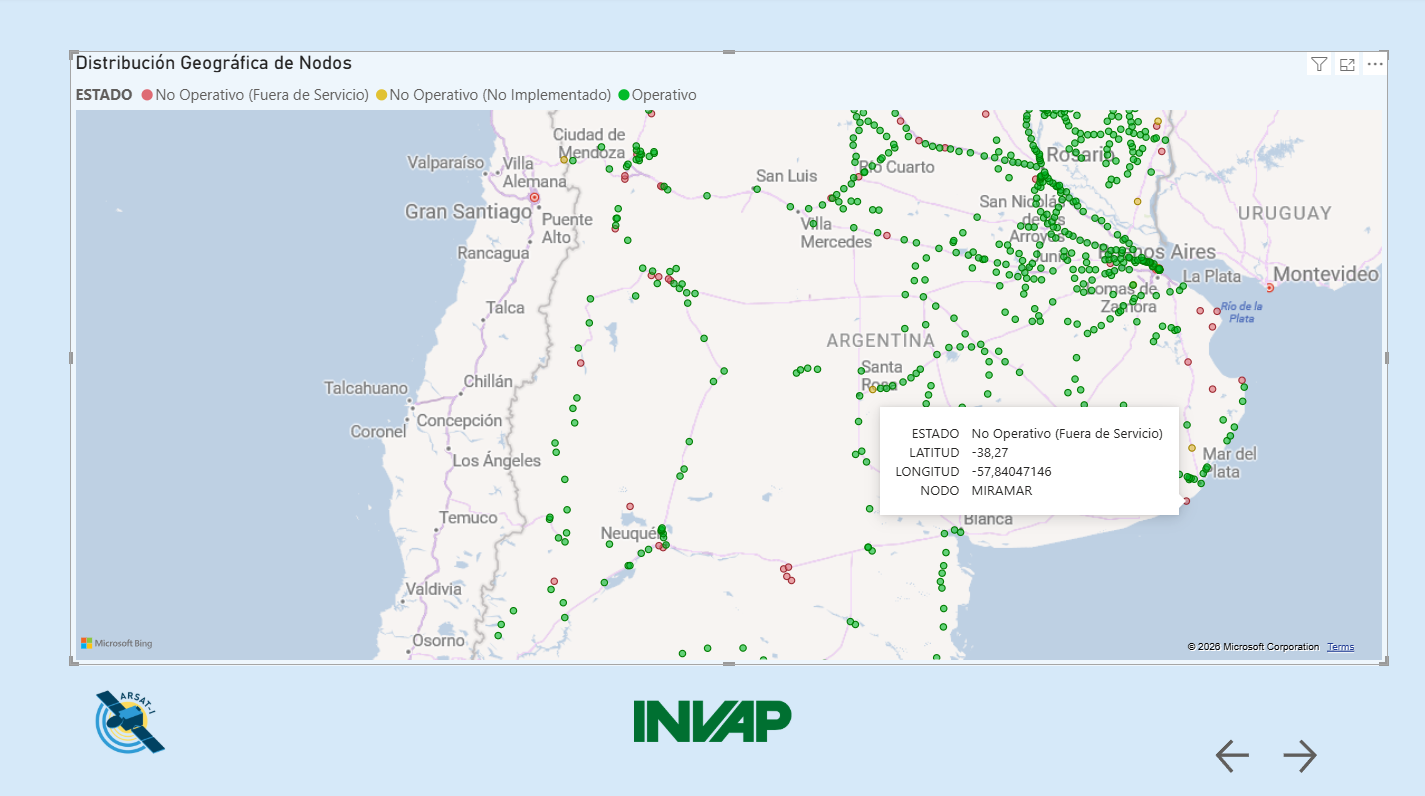

The dashboard page shown, as its layout file describes it:
{"tool":"powerbi","page":{"name":"Mapa","canvas":[1280,720],"ordinal":4},"visuals":[{"type":"map","title":"Distribución Geográfica de Nodos","fields":{"Y":["NODOS_ARSAT.LONGITUD"],"X":["NODOS_ARSAT.LATITUD"],"Series":["NODOS_ARSAT.ESTADO_SIMPLIFICADO"]},"box":[64.5,48.4,1180.3,549.9],"z":0},{"type":"actionButton","box":[1086.2,659.7,50.5,39.9],"z":1},{"type":"actionButton","box":[1145.6,659.7,43.4,39.9],"z":2},{"type":"image","box":[55.5,614.3,126.3,69.9],"z":3},{"type":"image","box":[569.6,607.2,141.5,83.3],"z":4}]}

Visuals, with their boxes in screenshot pixels (x1, y1, x2, y2), scaled from the page's 1280x720 canvas onto the 1425x796 screenshot:
"Distribución Geográfica de Nodos" map: box=[72, 54, 1386, 661]
actionButton: box=[1209, 729, 1265, 773]
actionButton: box=[1275, 729, 1324, 773]
image: box=[62, 679, 202, 756]
image: box=[634, 671, 792, 763]
